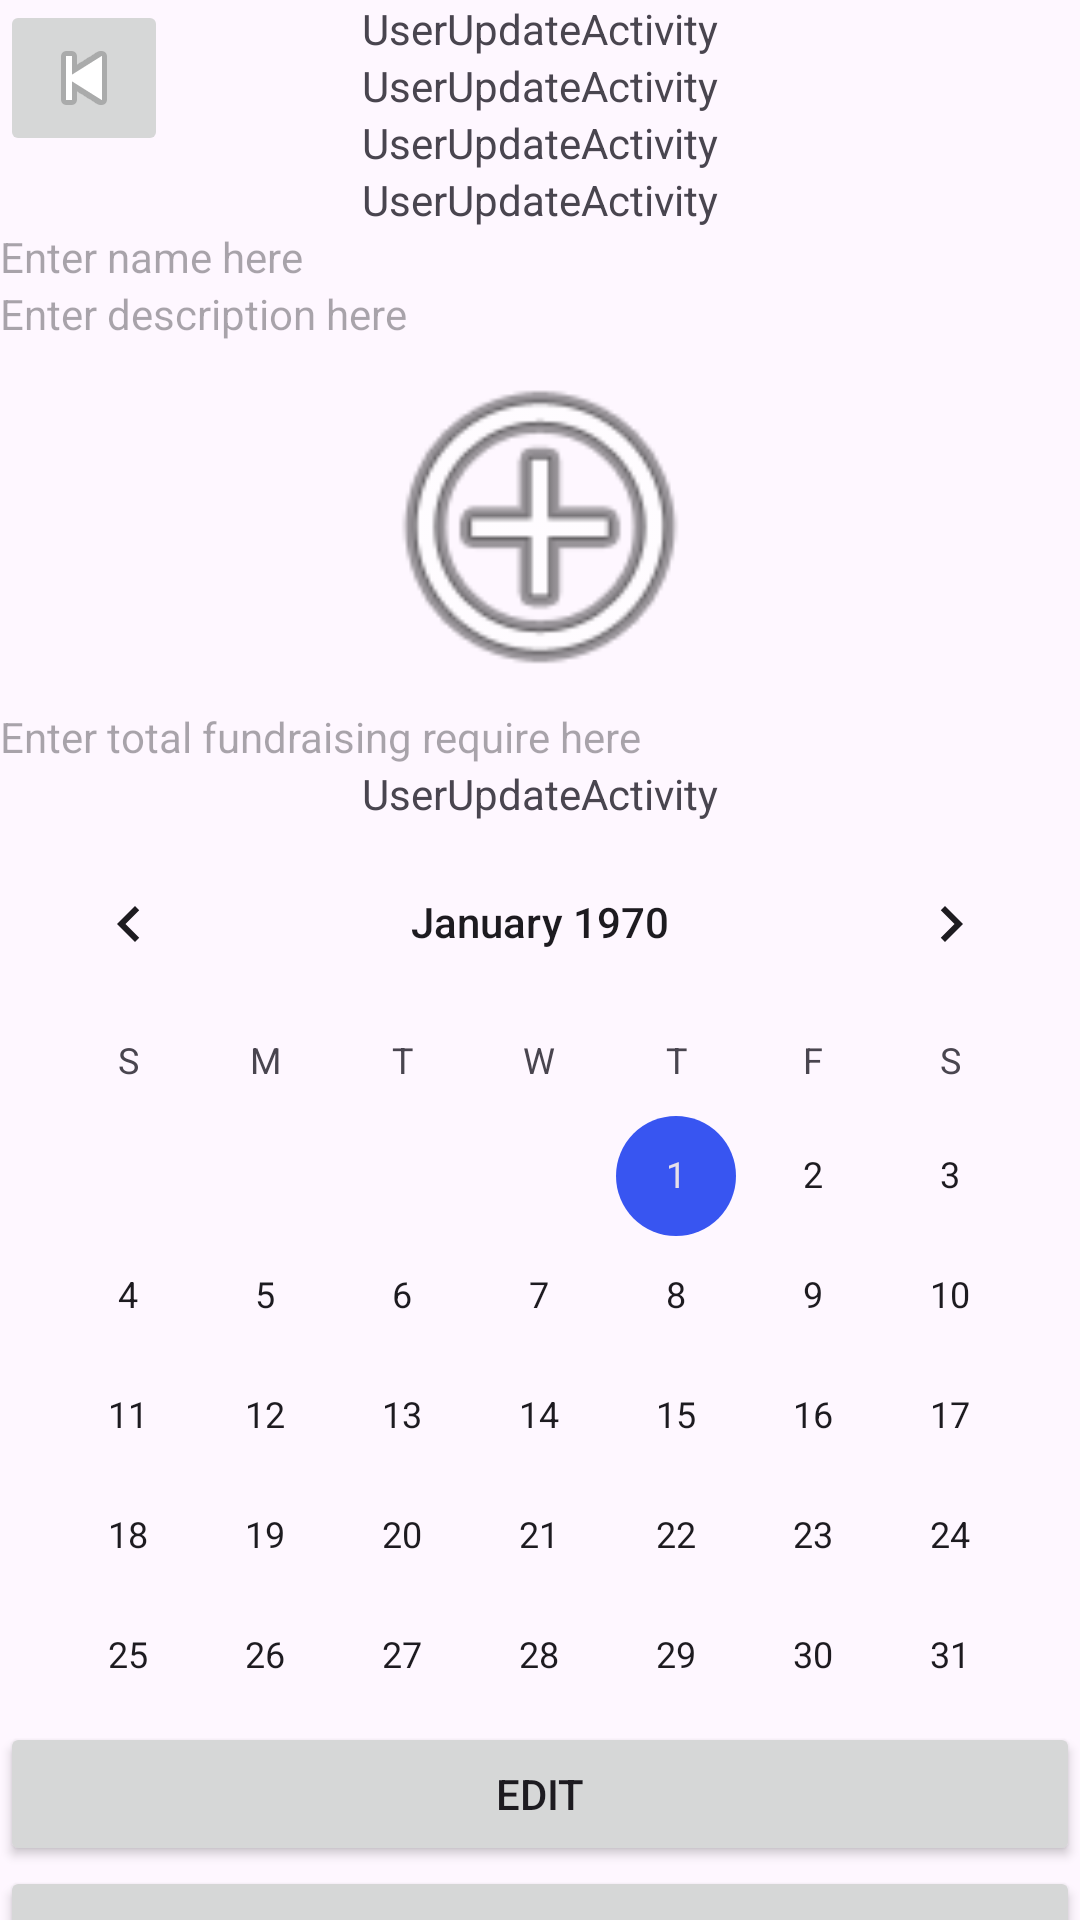

Icon bounding boxes for this 1080px x 1920px phone screenshot, format [x1, y1, x2, y2]:
add: [404, 391, 676, 663]
previous: [12, 18, 156, 138]
